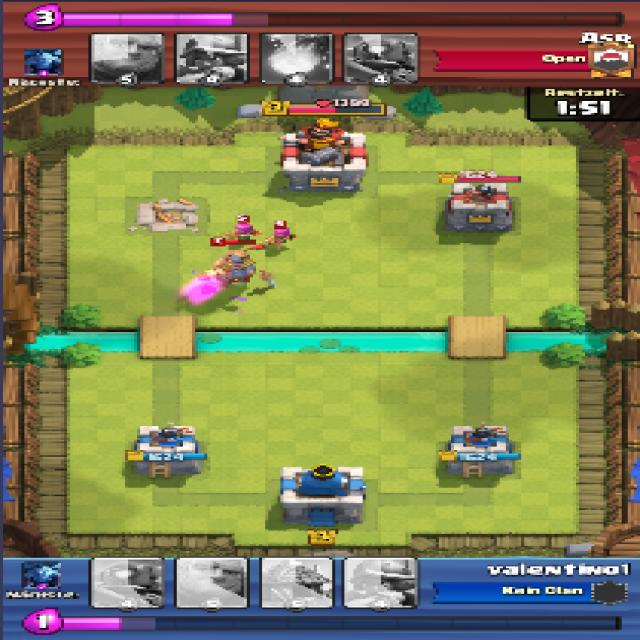Enemy-Archer: (263, 225, 295, 248), (222, 224, 260, 242)
Enemy-Prince: (196, 247, 261, 288)
